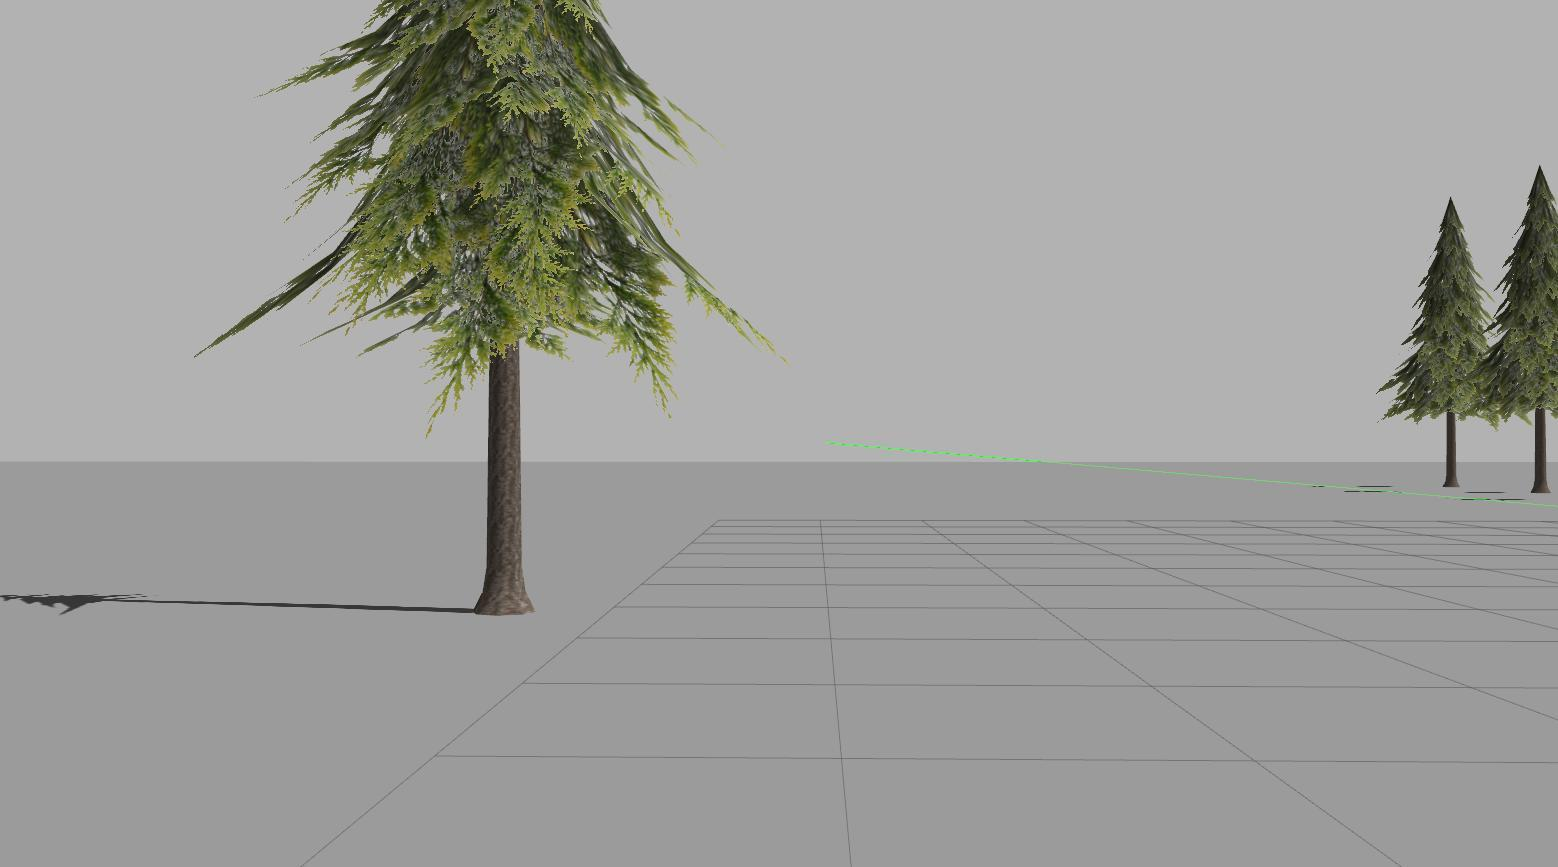tree_gazebo: (210, 0, 773, 613), (1382, 201, 1488, 486), (1479, 168, 1558, 491)
